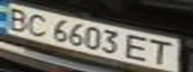0: (81, 24, 103, 52)
3: (100, 27, 124, 56)
6: (48, 17, 72, 44), (66, 21, 87, 47)
B: (0, 4, 33, 33)
C: (21, 10, 51, 37)
E: (121, 33, 154, 62)
T: (145, 37, 181, 66)
